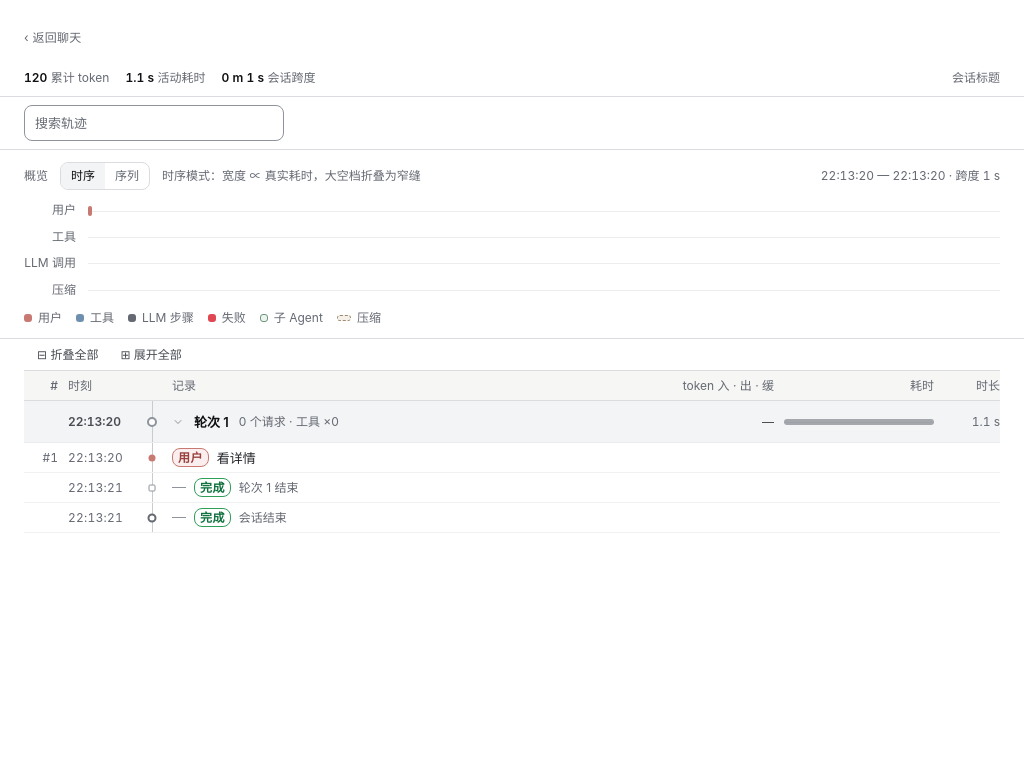
it: SessionTrajectoryView：空态与跟随尾部 › 点击记录打开检查器，Esc 关闭（与 × 等价）
Click the button "#1 22:13:20 用户 看详情" at (96, 457), box [24,443,1000,473]
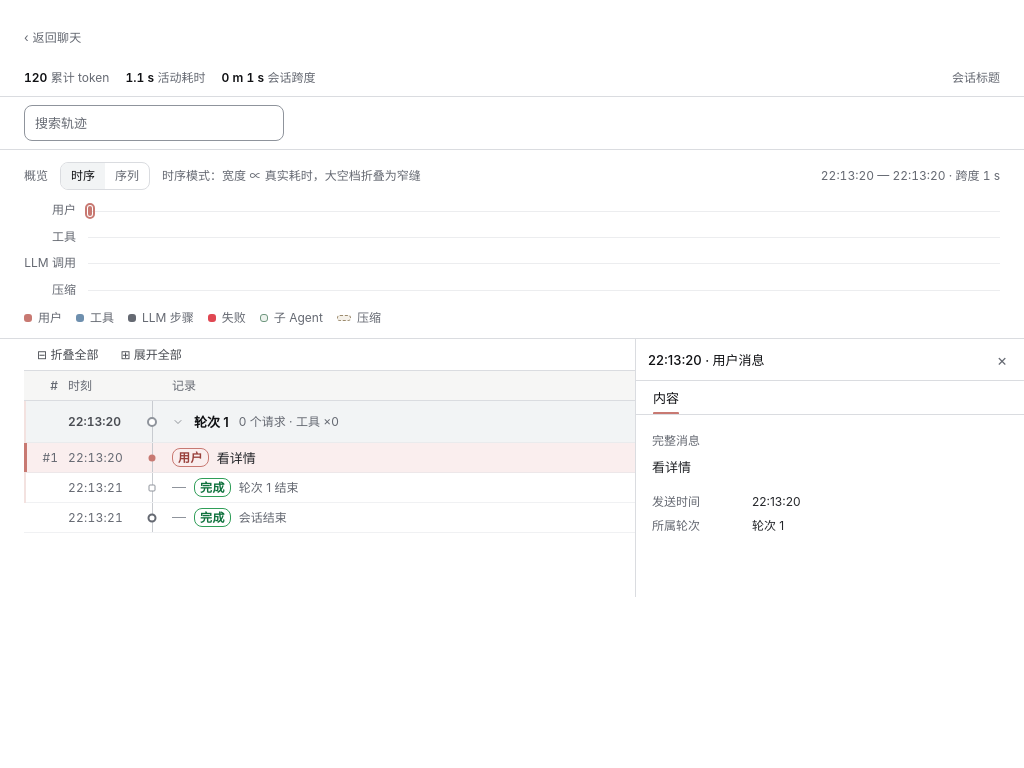
Expected: the element named "记录检查器" is shown, [635,339,1023,597]
Press Escape
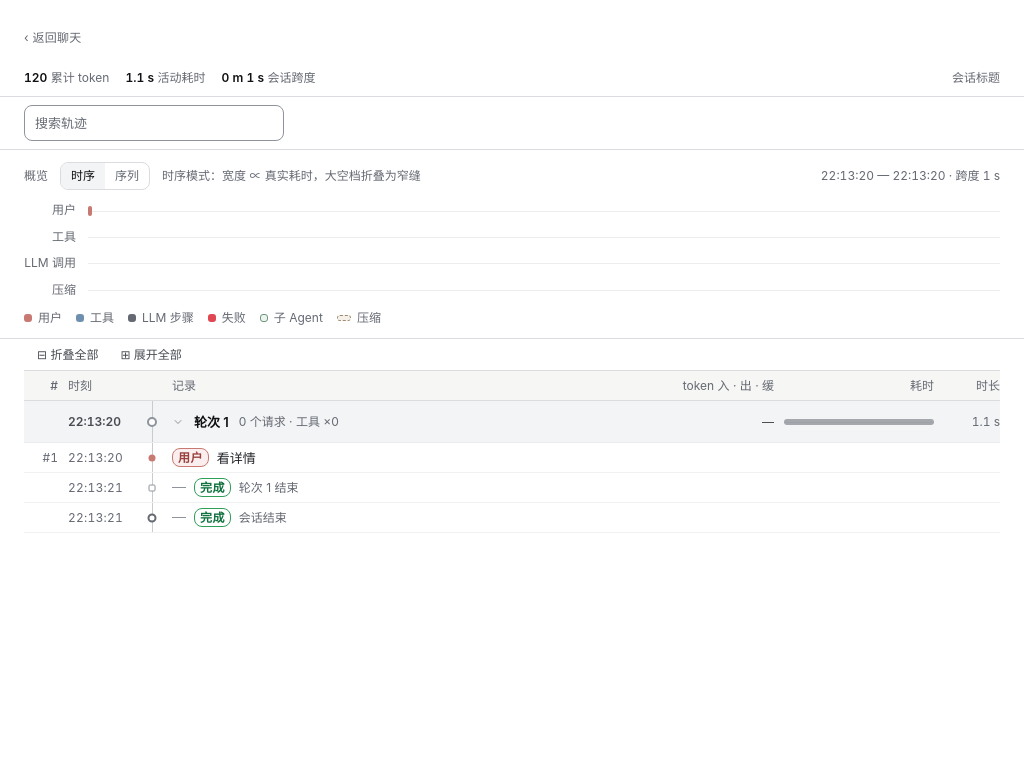
Expected: the element named "记录检查器" is gone
